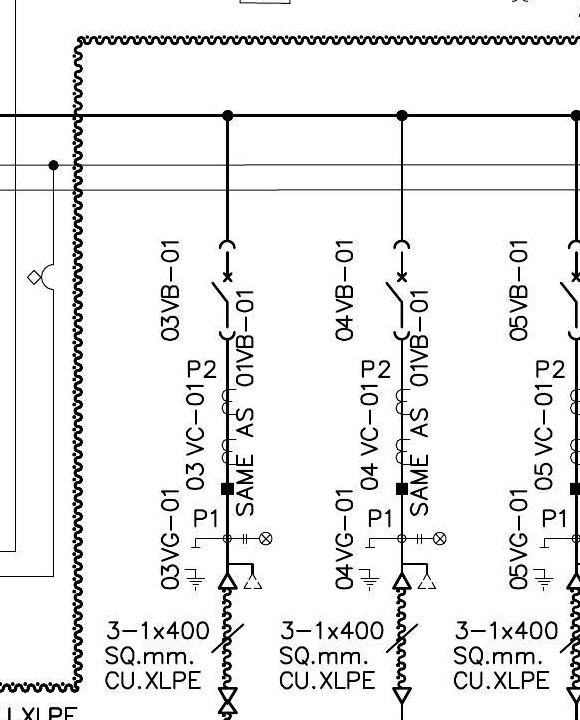22_breaker: (384, 239, 411, 342), (210, 239, 237, 341)
22_gs: (357, 545, 381, 591), (183, 545, 206, 591), (531, 545, 554, 591)
22_ll: (242, 531, 273, 546), (416, 531, 447, 546)
terminator_single: (391, 686, 413, 704)
terminator_splicing_kits: (217, 686, 238, 714)
terminator_w_future: (217, 561, 264, 591), (391, 561, 438, 590)
